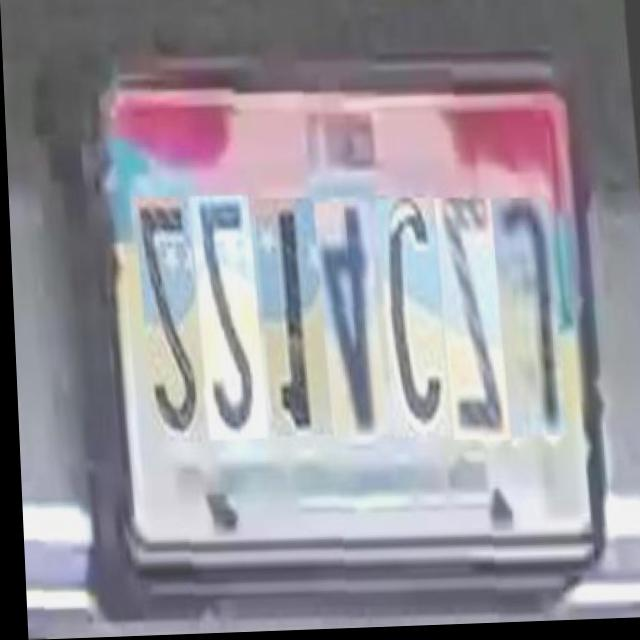1: (254, 202, 331, 441)
2: (191, 199, 266, 445), (135, 200, 205, 447)
4: (314, 205, 387, 440)
c: (376, 200, 450, 441)
j: (491, 200, 566, 440)
z: (435, 200, 508, 445)
